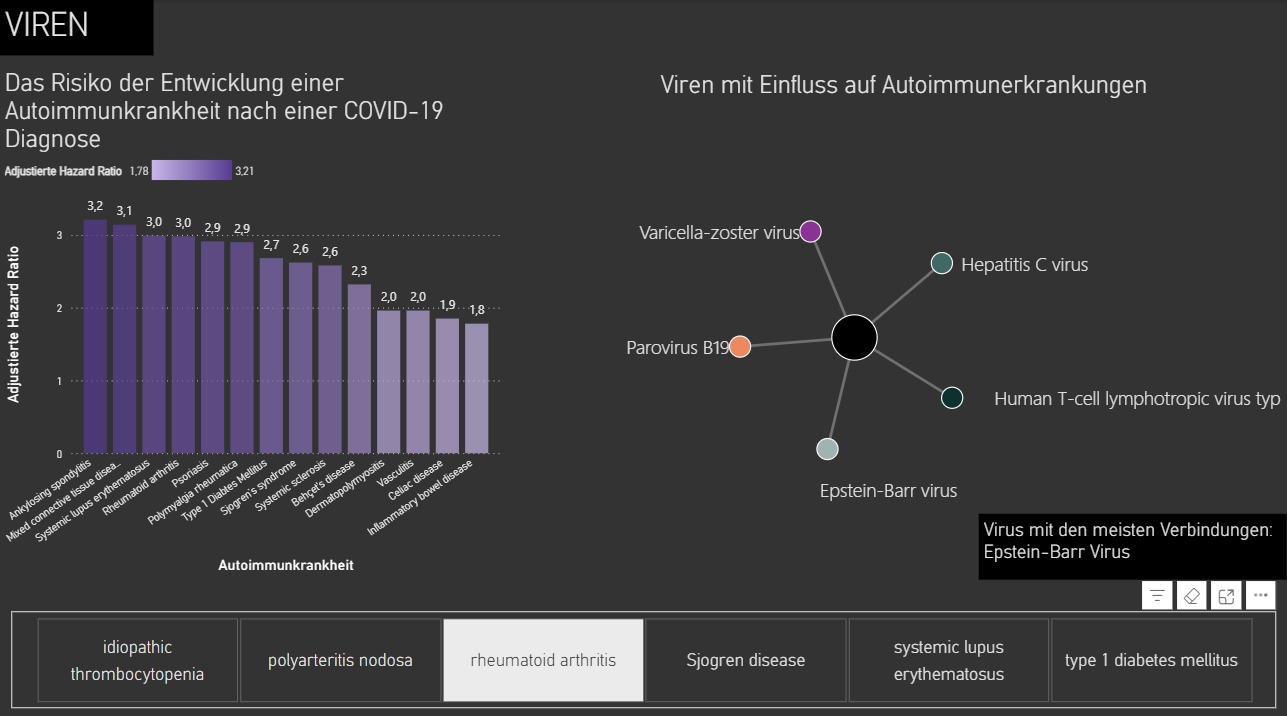

This screenshot's page, from the dashboard's own definition file:
{"tool":"powerbi","page":{"name":"Seite 13","canvas":[1280,720],"ordinal":4},"visuals":[{"type":"clusteredColumnChart","title":"Das Risiko der Entwicklung einer Autoimmunkrankheit nach einer COVID-19 Diagnose","fields":{"Category":["covid autoimmune risk.autoimmune disease"],"Y":["Sum(covid autoimmune risk.Adjusted)"]},"box":[0,67.1,503.1,508.6],"z":0},{"type":"slicer","fields":{"Values":["Viren verlinkt AD's.Autoimmune disease"]},"box":[11.1,608.6,1258.9,97.1],"z":1000},{"type":"journeyGraph1859AB39DB23421488ADF752BCB05167","title":"Viren mit Einfluss auf Autoimmunerkrankungen","fields":{"category":["Viren verlinkt AD's.Virus"],"value":["CountNonNull(Viren verlinkt AD's.Autoimmune disease)"],"root":["CountNonNull(Viren verlinkt AD's.Autoimmune disease)"]},"box":[518.4,70,761.6,505],"z":2000},{"type":"textbox","box":[0,0,152.9,55.2],"z":3000},{"type":"textbox","box":[973.8,511.3,306.3,65.9],"z":4000}]}

Visuals, with their boxes in screenshot pixels (x1, y1, x2, y2), scaled from the page's 1280x720 canvas onto the 1287x716 screenshot:
"Das Risiko der Entwicklung einer Autoimmunkrankheit nach einer COVID-19 Diagnose" clusteredColumnChart: bbox=(0, 67, 506, 573)
slicer - Viren verlinkt AD's.Autoimmune disease: bbox=(11, 605, 1277, 702)
"Viren mit Einfluss auf Autoimmunerkrankungen" journeyGraph1859AB39DB23421488ADF752BCB05167: bbox=(521, 70, 1286, 572)
textbox: bbox=(0, 0, 154, 55)
textbox: bbox=(979, 508, 1286, 574)
